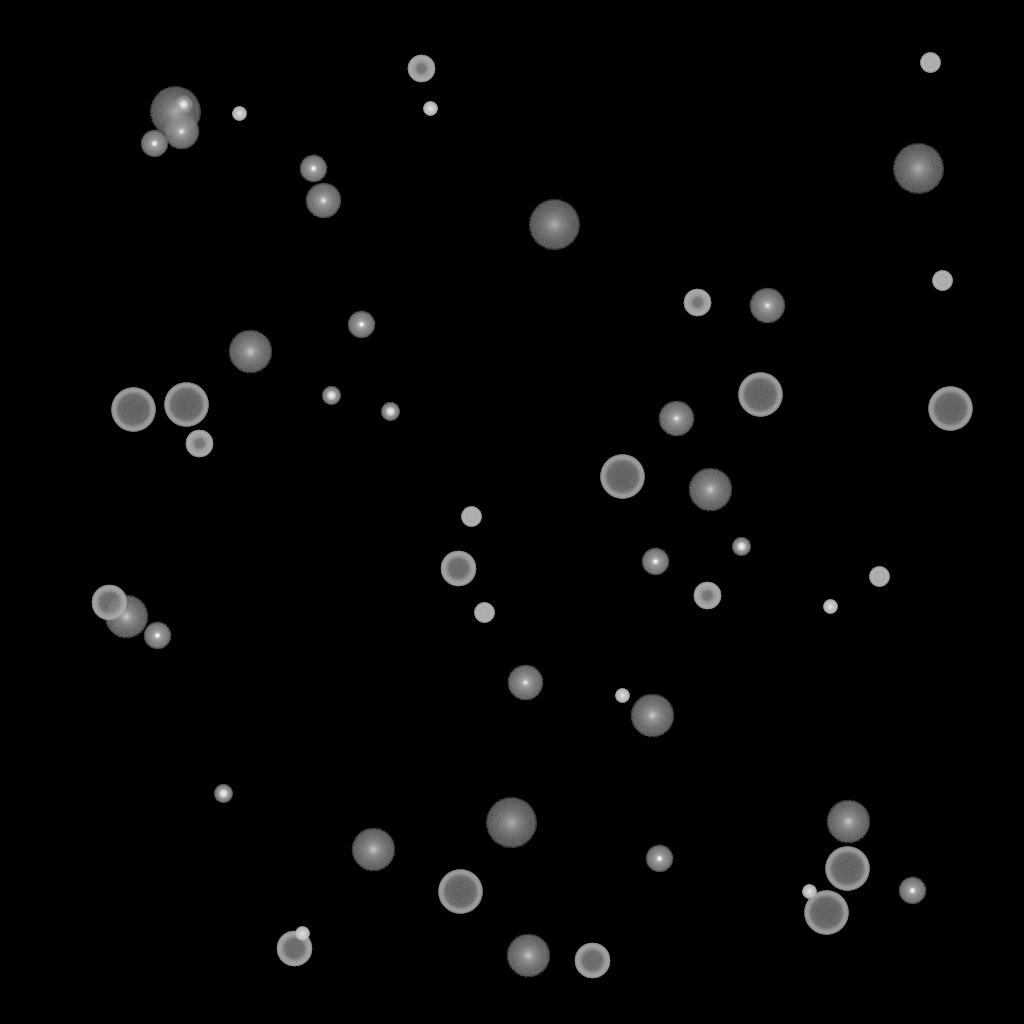depth:-10: (140, 130, 168, 158), (299, 155, 327, 183), (645, 845, 673, 873), (641, 548, 669, 576), (143, 622, 171, 650), (898, 877, 926, 905), (347, 311, 375, 339)
depth:-20: (214, 785, 232, 803), (174, 96, 192, 114), (381, 403, 399, 421), (732, 538, 750, 556), (322, 387, 340, 405)
depth:-30: (295, 927, 309, 941), (823, 600, 837, 614), (802, 885, 816, 899), (232, 107, 246, 121), (615, 689, 629, 703), (423, 102, 437, 116)
depth:-40: (869, 567, 889, 587), (461, 507, 481, 527), (474, 603, 494, 623), (932, 271, 952, 291), (920, 53, 940, 73)
depth:-50: (693, 582, 721, 610), (407, 55, 435, 83), (683, 289, 711, 317), (185, 430, 213, 458)
depth:-60: (574, 943, 610, 979), (91, 585, 127, 621), (276, 931, 312, 967), (440, 551, 476, 587)
depth:-70: (928, 387, 972, 431), (164, 383, 208, 427), (111, 388, 155, 432), (438, 870, 482, 914), (804, 891, 848, 935), (825, 847, 869, 891), (600, 455, 644, 499), (738, 373, 782, 417)
depth:0: (163, 114, 199, 150), (507, 665, 543, 701), (658, 401, 694, 437), (749, 288, 785, 324), (305, 183, 341, 219)
depth:10: (228, 330, 272, 374), (630, 694, 674, 738), (688, 468, 732, 512), (826, 800, 870, 844), (506, 934, 550, 978), (351, 828, 395, 872), (104, 595, 148, 639)
depth:20: (528, 200, 580, 250), (149, 87, 201, 137), (485, 798, 537, 848), (892, 144, 944, 194)
